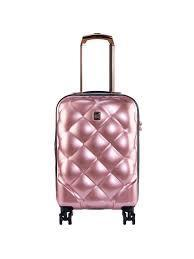suitcase: (52, 88, 141, 213)
